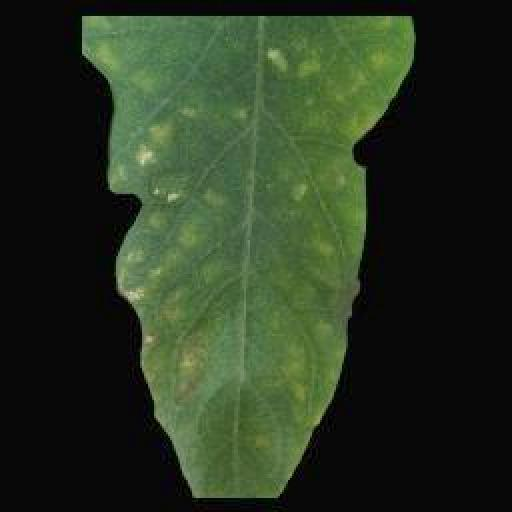disease_tomato: (82, 16, 416, 498)
